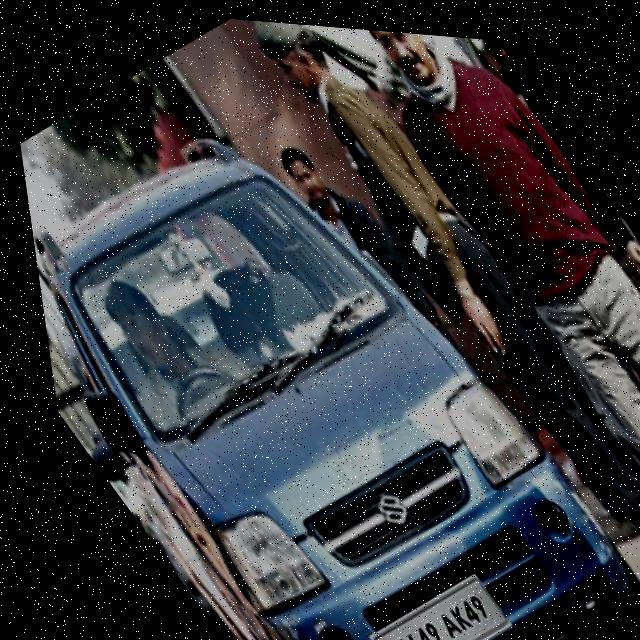license_plate: (335, 557, 500, 640)
